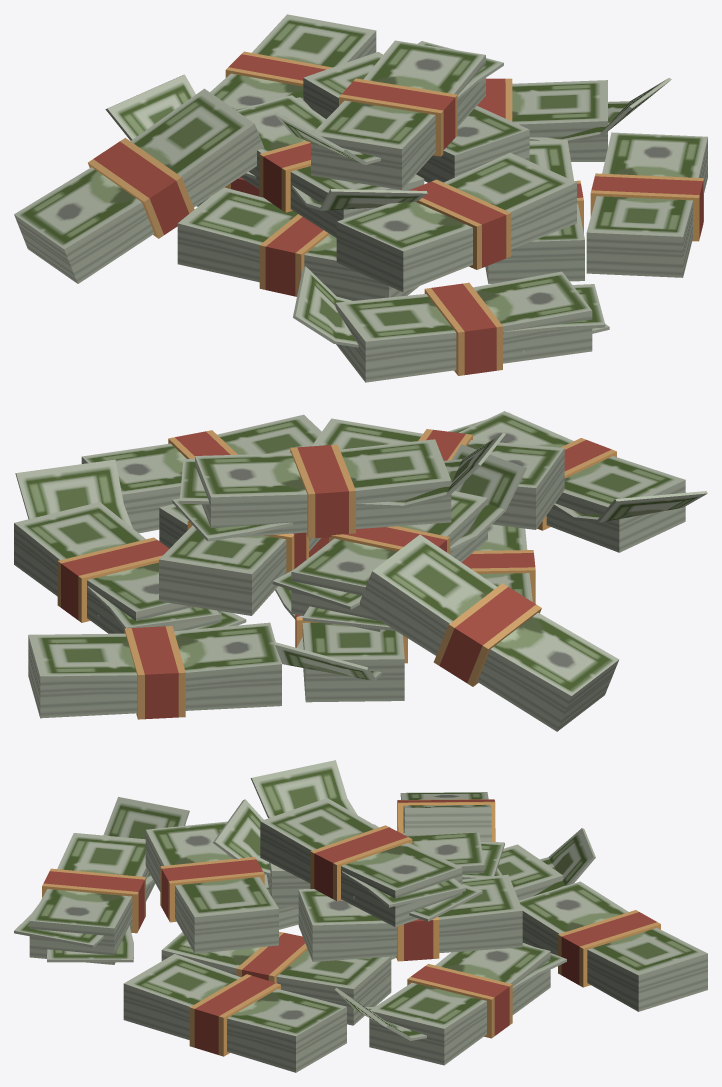
File: SM_Prop_Money_Pile_01.obj
3 views of the same model, one above another, from view 1: azimuth 30°, elevation 25°; view 2: azimuth 150°, elevation 25°; view 3: azimuth 270°, elevation 25° (orthographic). The views are drawn at different scales.
Parts seen in each view (by area): view 1: SM_Prop_Money_Pile_01_0; view 2: SM_Prop_Money_Pile_01_0; view 3: SM_Prop_Money_Pile_01_0.
Boxes of the visible parts, x1,y1,x2,y2 form: SM_Prop_Money_Pile_01_0: (14, 14, 707, 382); SM_Prop_Money_Pile_01_0: (14, 411, 707, 731); SM_Prop_Money_Pile_01_0: (14, 760, 707, 1072).
Size of the model in its own units: 0.7966 by 0.2029 by 0.8916.
1 material, 1 textured.
